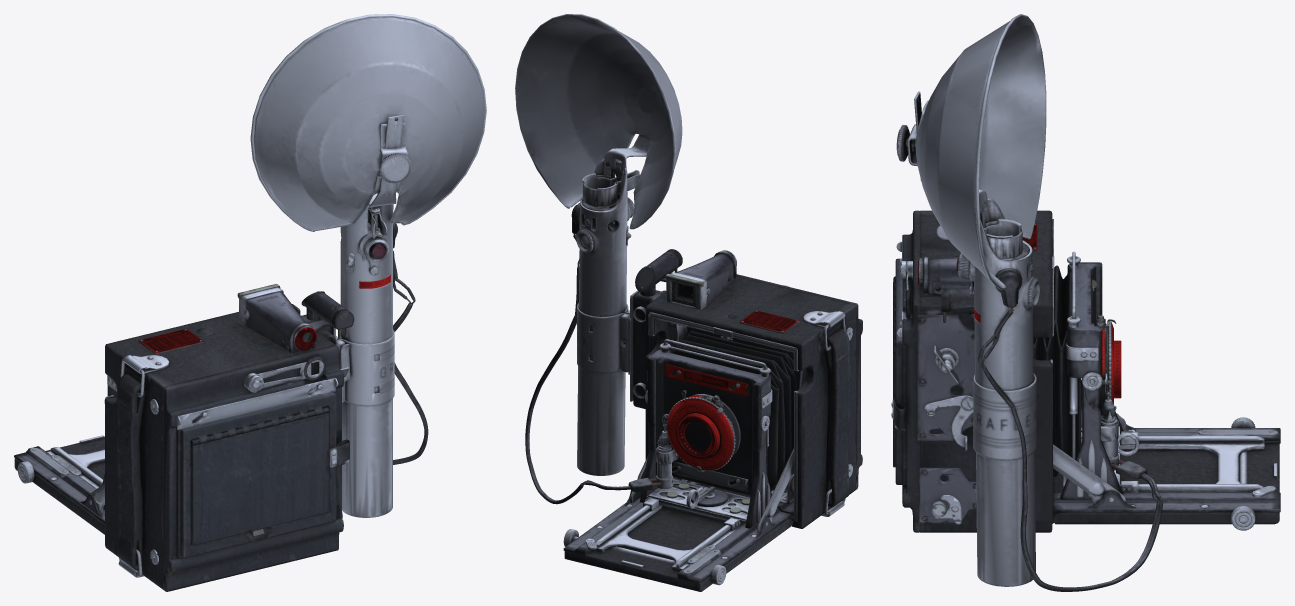
Rendered from speed_graphic_camera.glb.
3 views of the same model, side by side, from view 1: azimuth 30°, elevation 25°; view 2: azimuth 150°, elevation 25°; view 3: azimuth 270°, elevation 25° (orthographic). The views are drawn at different scales.
Parts seen in each view (by area): view 1: Object_2, Object_12; view 2: Object_2, Object_12; view 3: Object_2, Object_12.
Boxes of the visible parts, x1,y1,x2,y2 form: Object_2: [14, 14, 486, 591]; Object_12: [139, 275, 390, 353]; Object_2: [515, 14, 862, 591]; Object_12: [665, 310, 798, 470]; Object_2: [891, 14, 1280, 591]; Object_12: [918, 223, 1121, 404].
Bounding box in the file's own units: 0.2814 × 0.364 × 0.233.
Materials: 2 (2 with a texture image).
